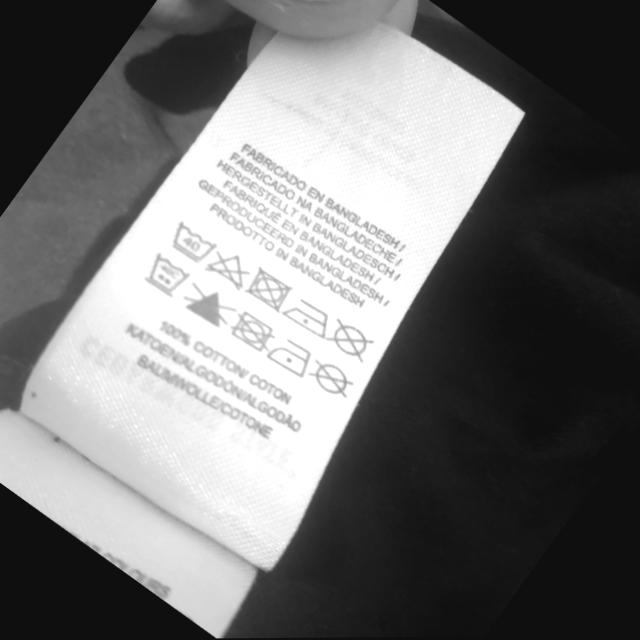40C: (174, 220, 219, 263), (146, 253, 192, 294)
DN_bleach: (184, 284, 236, 329), (206, 253, 248, 288)
DN_dry_clean: (307, 359, 361, 400), (327, 319, 377, 360)
DN_tumble_dry: (248, 267, 293, 312), (235, 310, 278, 353)
iron_low: (282, 298, 333, 336), (269, 337, 314, 379)
